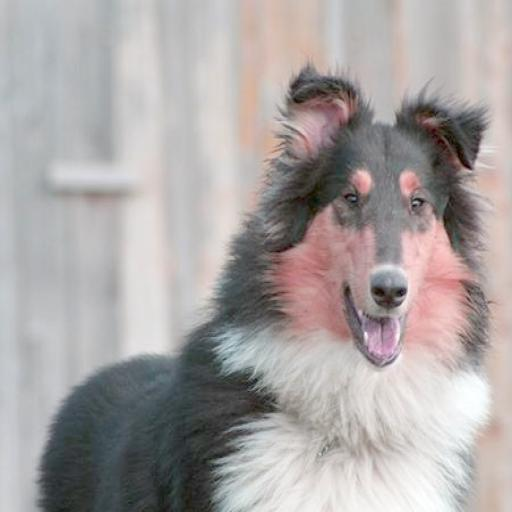dog_face: (289, 76, 484, 374)
